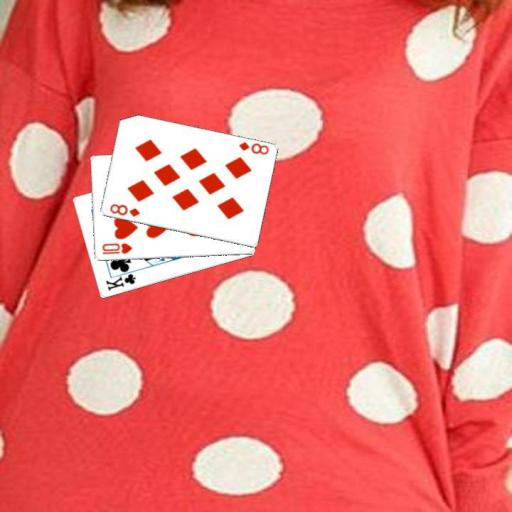10H: (99, 240, 134, 256)
8D: (107, 201, 142, 219), (236, 139, 271, 157)
KC: (102, 267, 138, 292)
